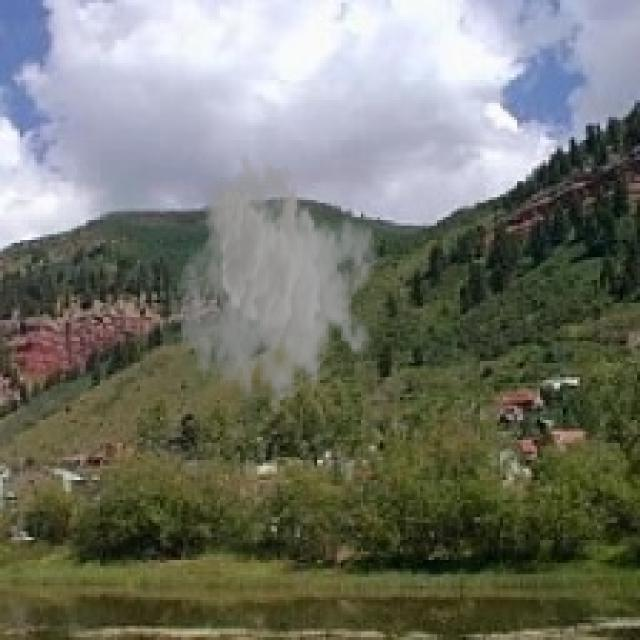smoke: (174, 152, 380, 428)
